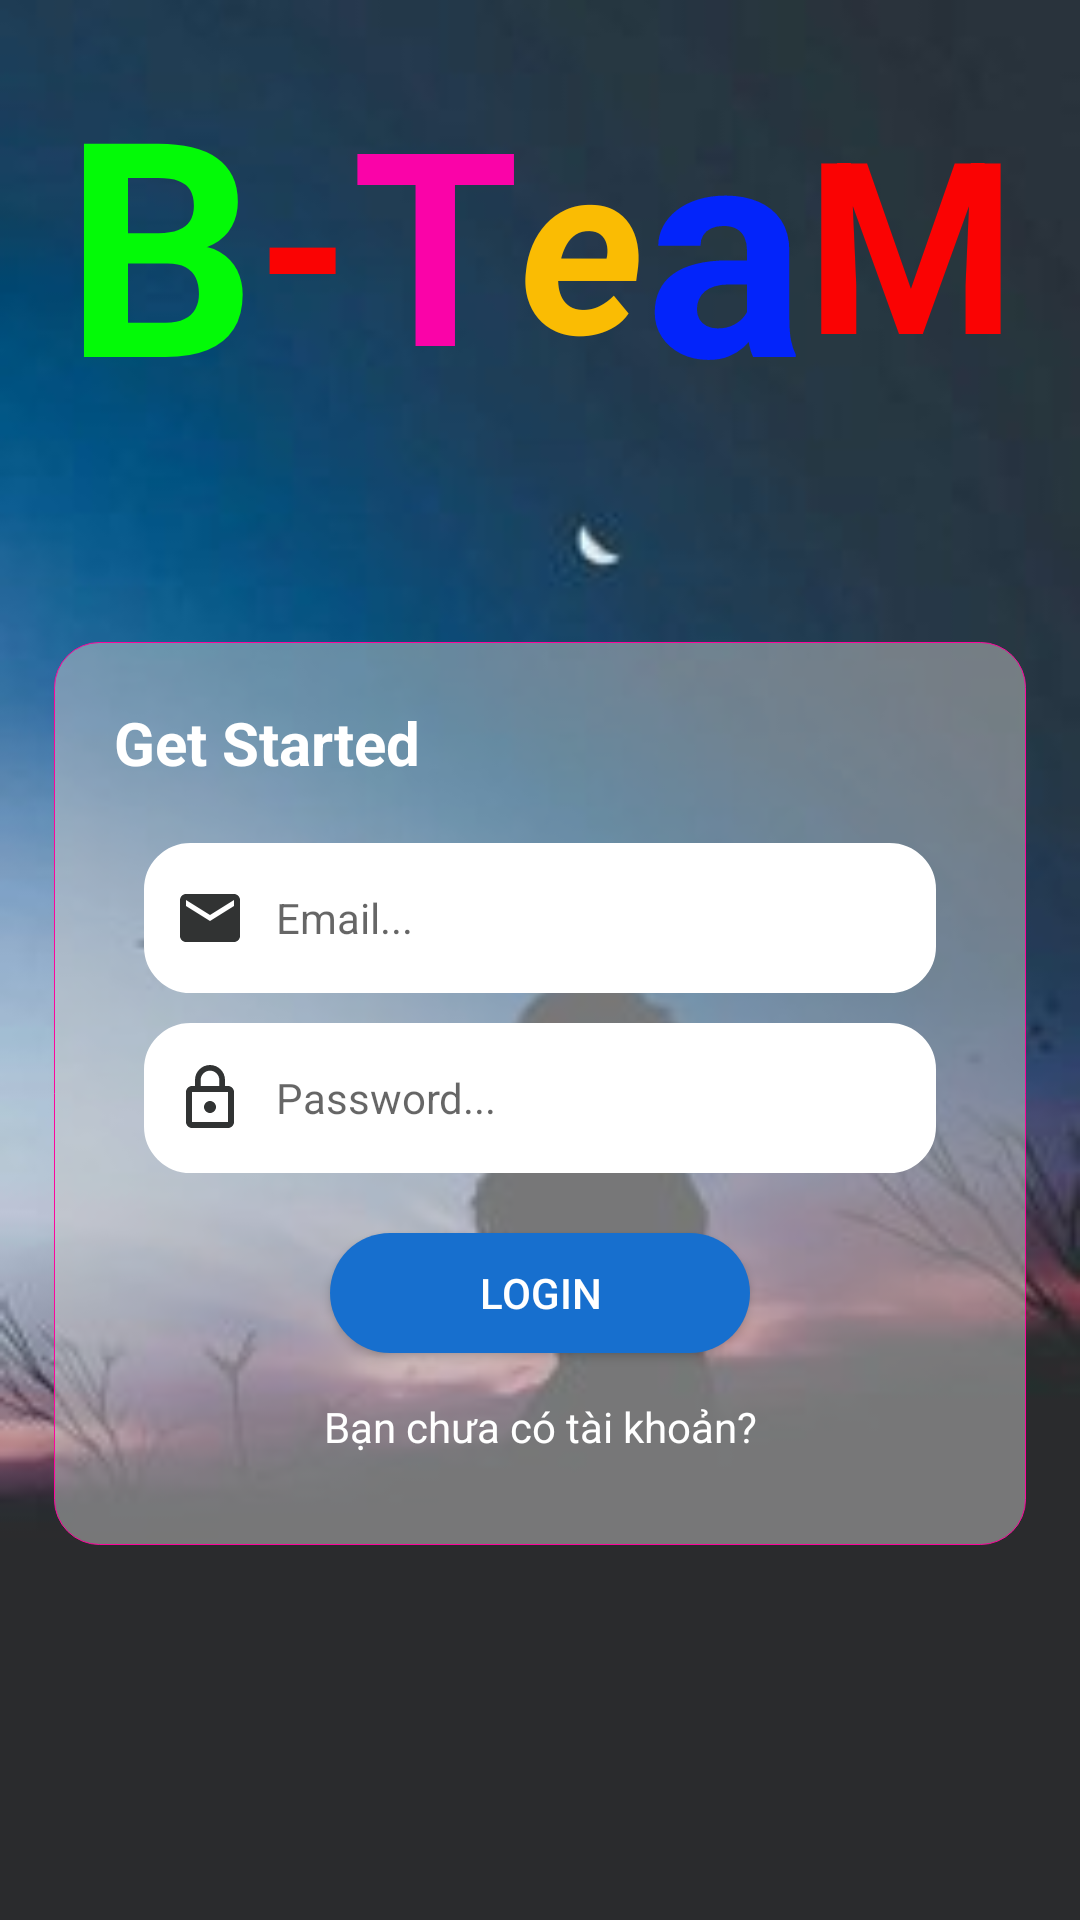

Screen size 1080px x 1920px. Icon name, then its center in pixels as point (x, y):
lock: point (210, 1096)
